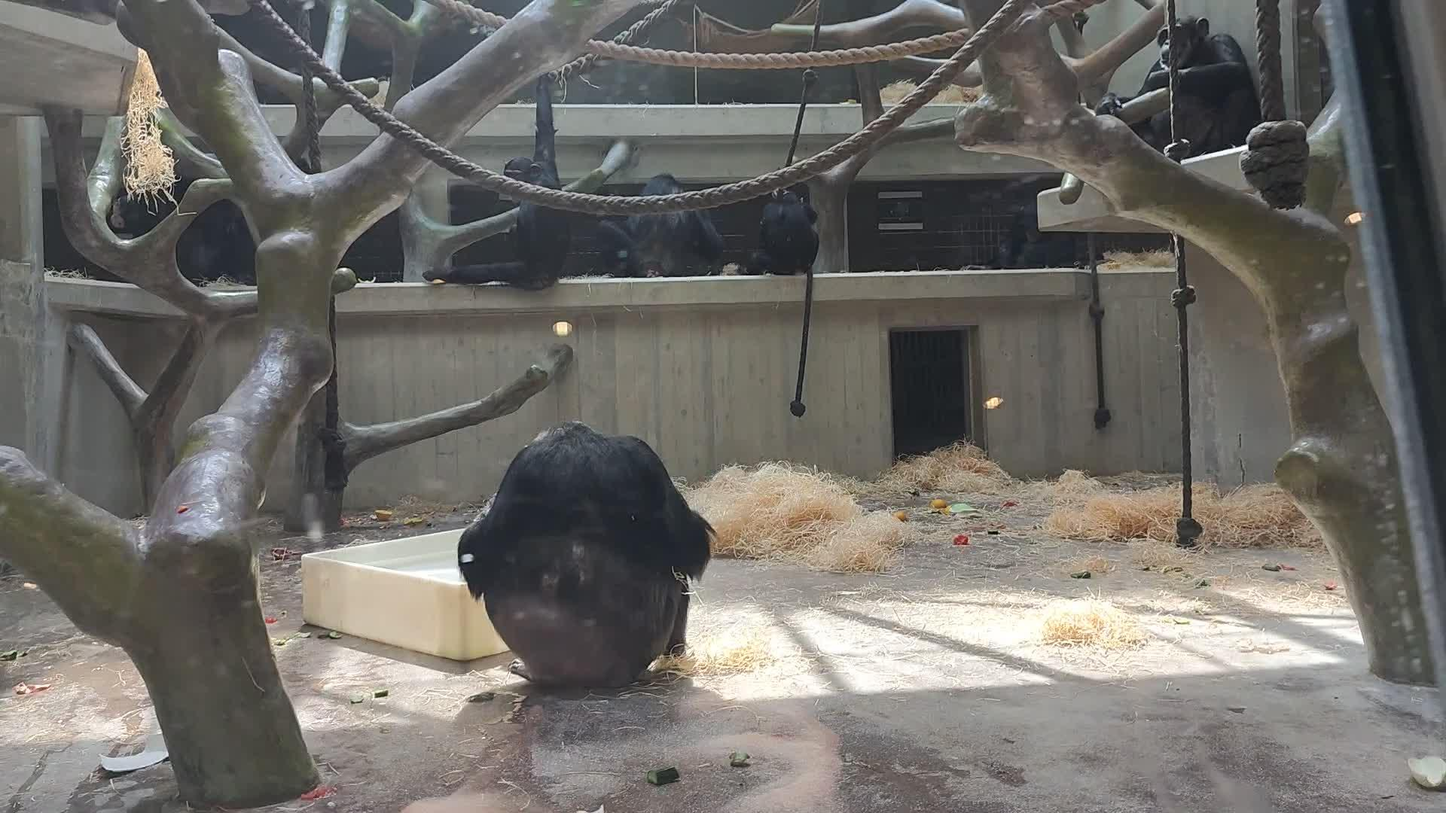boar: (458, 421, 718, 688), (422, 74, 571, 292), (1094, 15, 1262, 160), (597, 173, 723, 277), (747, 192, 819, 274)
